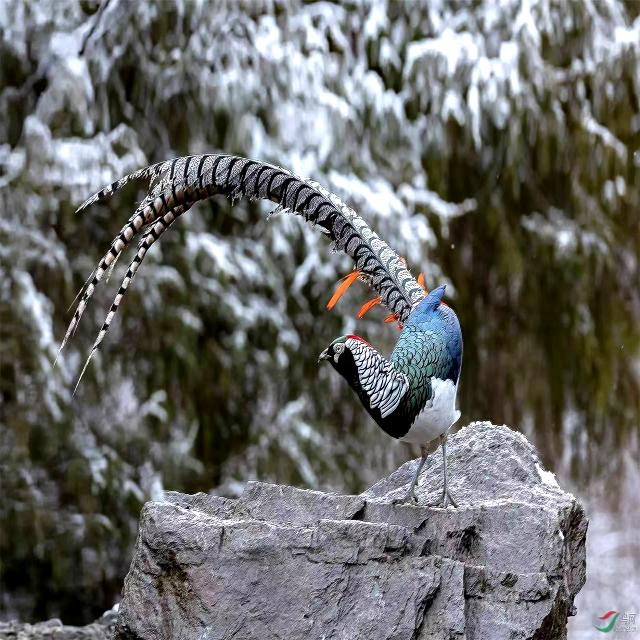Chrysolophus amherstiae: (70, 154, 425, 330)
